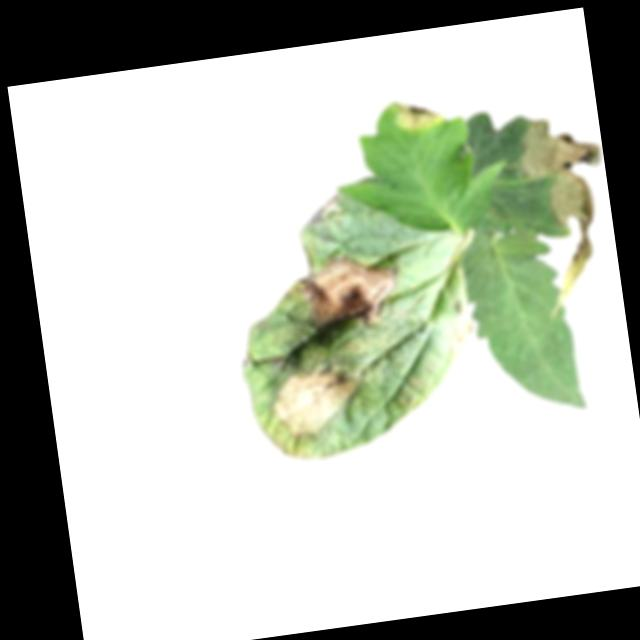Late_blight: (504, 109, 622, 317), (291, 252, 404, 339), (264, 356, 367, 445), (386, 94, 446, 134), (446, 306, 478, 359), (301, 191, 345, 229)
